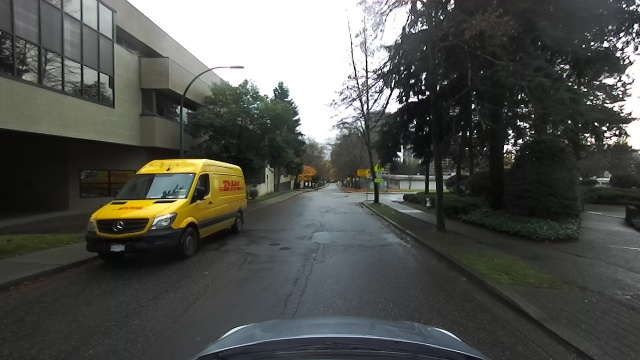car: (81, 155, 250, 264)
